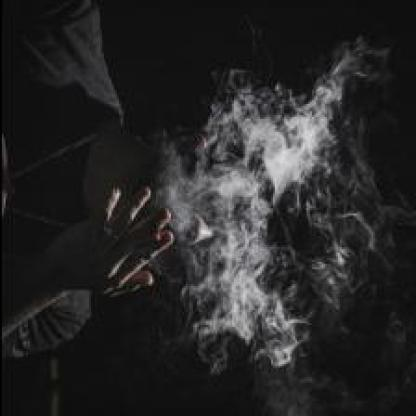Smoke: (174, 86, 342, 356)
